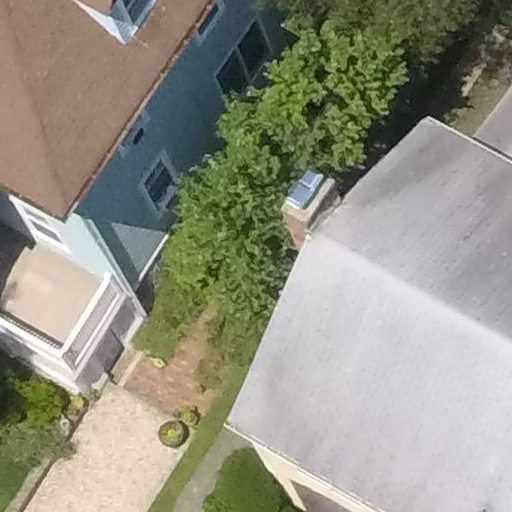flower pot: (149, 420, 190, 453), (177, 409, 199, 427), (55, 417, 73, 433)
